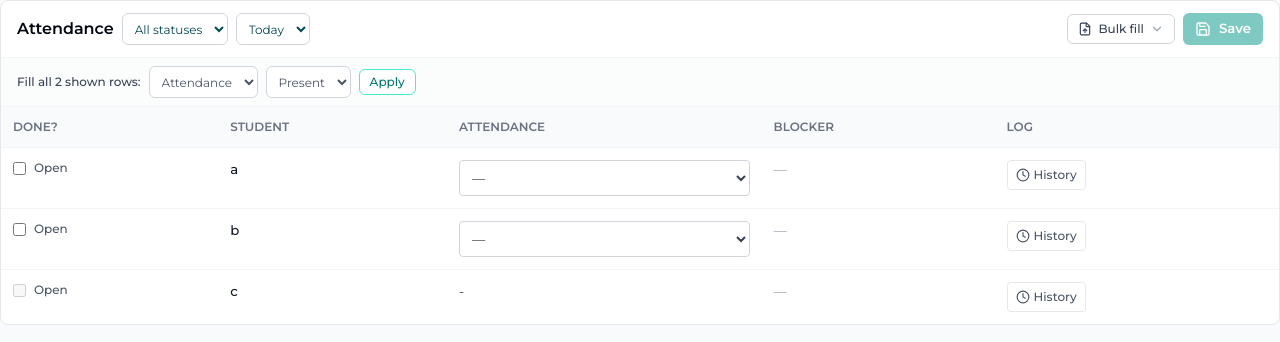
Test: grid: Fill all shown rows › drafts the value into every row the viewer may edit, then the status
This screenshot has width=1280, height=342.
Click the button "Apply". click: [387, 82]
box: [359, 69, 416, 95]
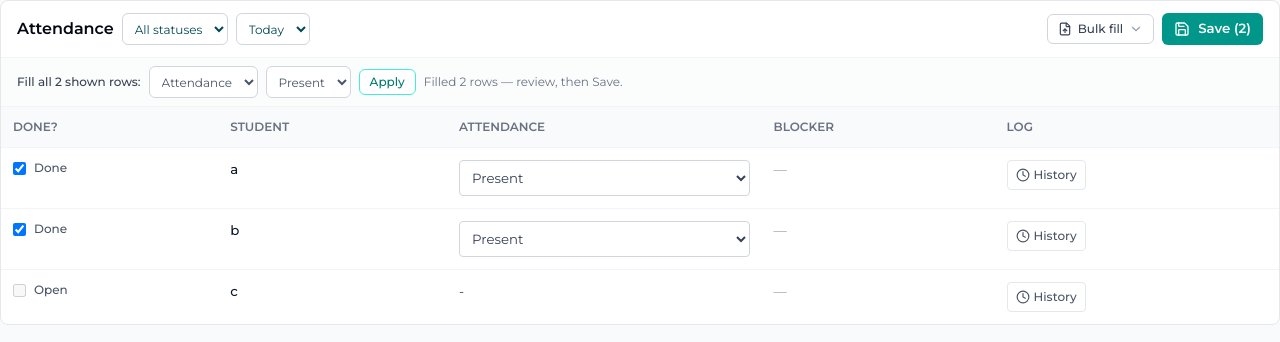
Check: the button "Save (2)" is shown, box [1162, 14, 1263, 44]
# Answering the required field already ticked Done, so a separate Done pass has nothing left.
Select "Status" in the dropdown named "Column to fill". click: [203, 82]
box: [149, 66, 258, 98]
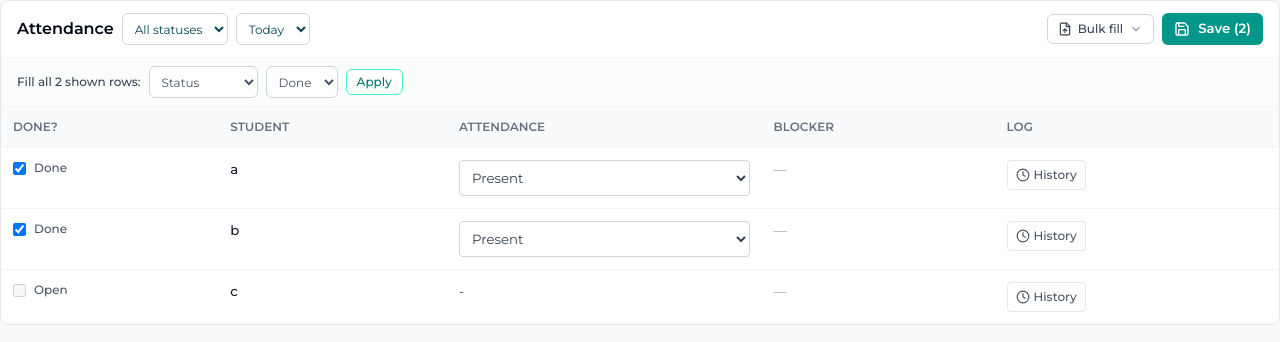
Click the button "Apply". click: [374, 82]
box: [346, 69, 403, 95]
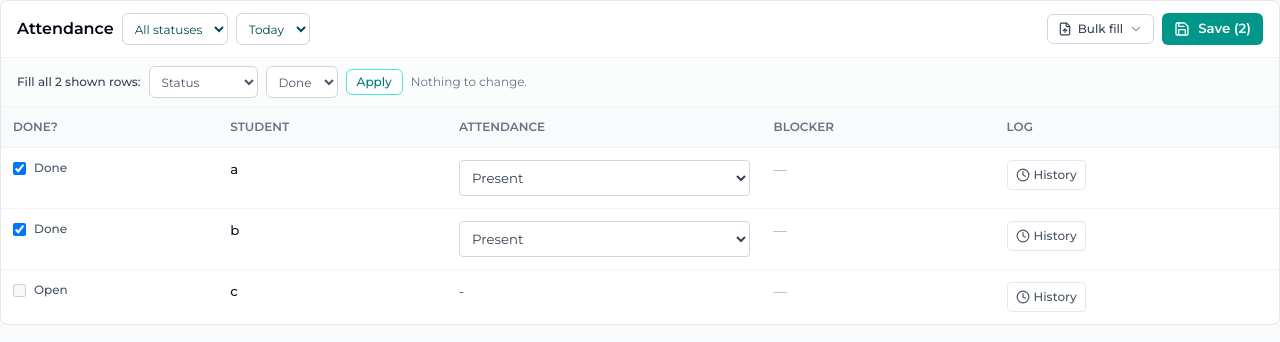
Check: the text "Nothing to change." is shown, box [411, 74, 527, 90]
